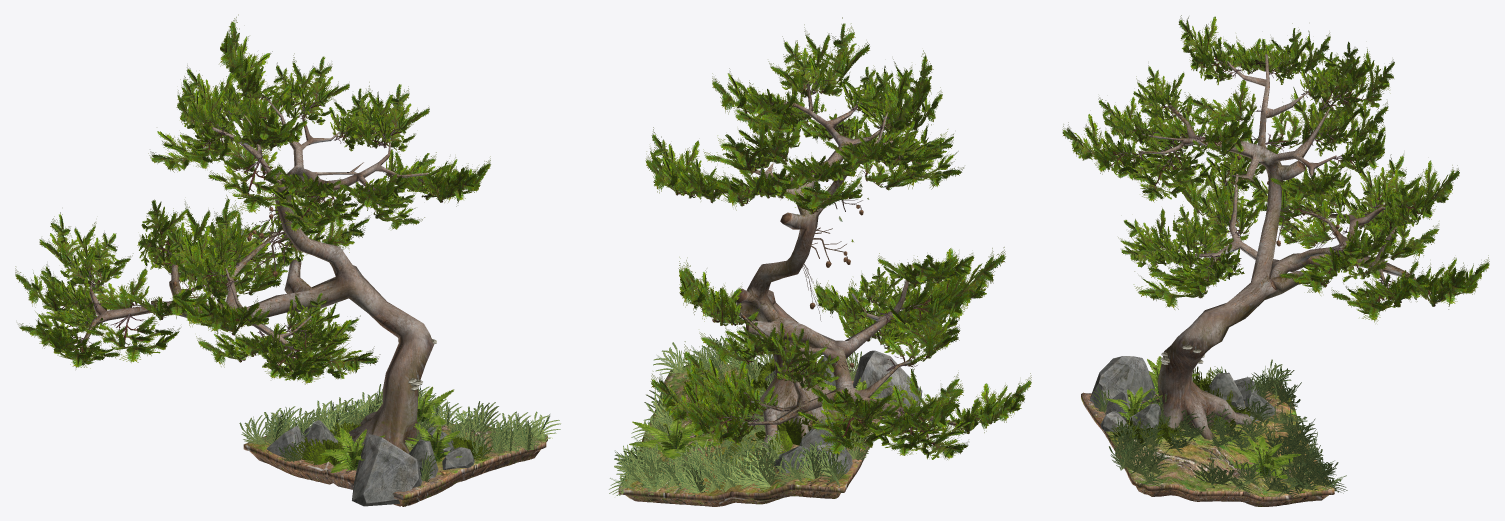
The picture shows the model from 3 angles, left to right: view 1: azimuth 30°, elevation 25°; view 2: azimuth 150°, elevation 25°; view 3: azimuth 270°, elevation 25°; orthographic projection. The views are drawn at different scales.
Parts seen in each view (by area): view 1: Plane.012, Tree_low_poly.001, Plane.021, Cube.028, Plane; view 2: Plane.012, Plane.021, Tree_low_poly.001, Plane, Cube.028; view 3: Plane.012, Tree_low_poly.001, Plane.021, Plane, Cube.028.
Boxes of the visible parts, box(x1,y1,x2,y2) form: Plane.012: box(15, 14, 490, 384); Tree_low_poly.001: box(83, 97, 433, 453); Plane.021: box(173, 181, 560, 482); Cube.028: box(267, 420, 474, 506); Plane: box(243, 423, 547, 506); Plane.012: box(645, 17, 1031, 459); Plane.021: box(609, 183, 906, 495); Tree_low_poly.001: box(713, 83, 957, 456); Plane: box(618, 364, 882, 506); Cube.028: box(765, 350, 922, 473); Plane.012: box(1062, 15, 1489, 322); Tree_low_poly.001: box(1138, 54, 1416, 439); Plane.021: box(1091, 126, 1347, 498); Plane: box(1081, 384, 1334, 506); Cube.028: box(1089, 356, 1275, 432).
Size of the model in its own units: 2.2 by 2.01 by 1.99.
Materials: 5 (5 with a texture image).
